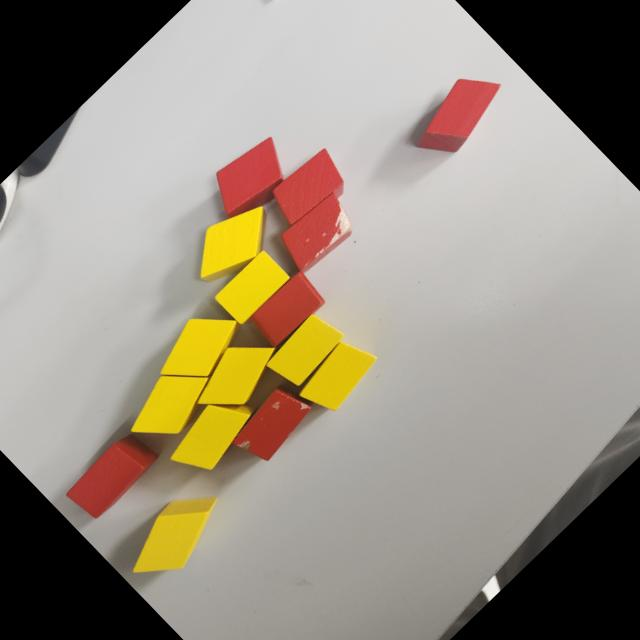broken: (226, 378, 320, 470), (272, 187, 364, 278)
red: (404, 60, 514, 169), (200, 128, 306, 232), (63, 426, 162, 524), (264, 142, 358, 235), (246, 268, 329, 350)
yellow: (114, 473, 238, 596), (178, 188, 286, 296), (117, 351, 223, 456), (184, 322, 289, 427), (146, 296, 252, 400), (160, 383, 262, 485), (292, 331, 384, 422), (262, 306, 348, 392), (212, 248, 291, 326)
